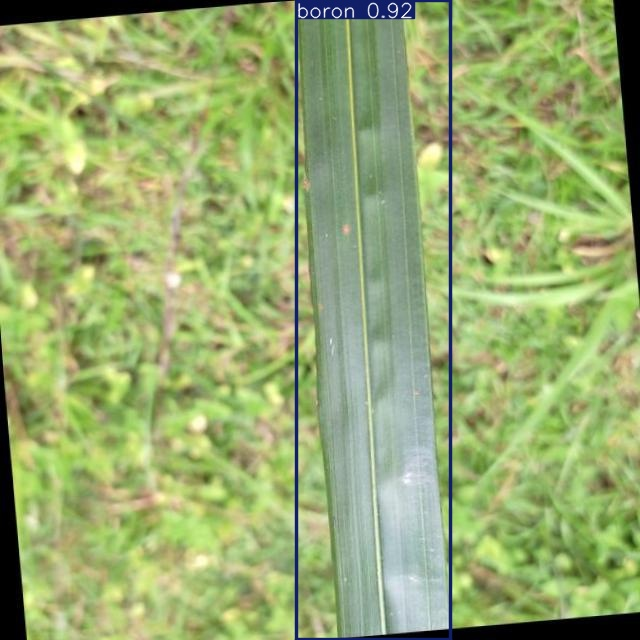nitrogen: (296, 0, 450, 639)
